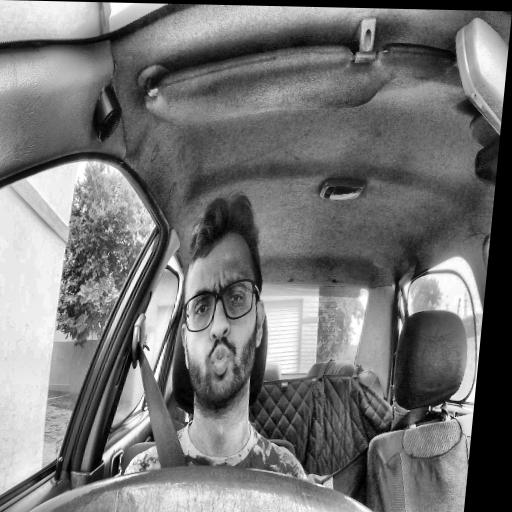awake: (171, 193, 277, 408)
